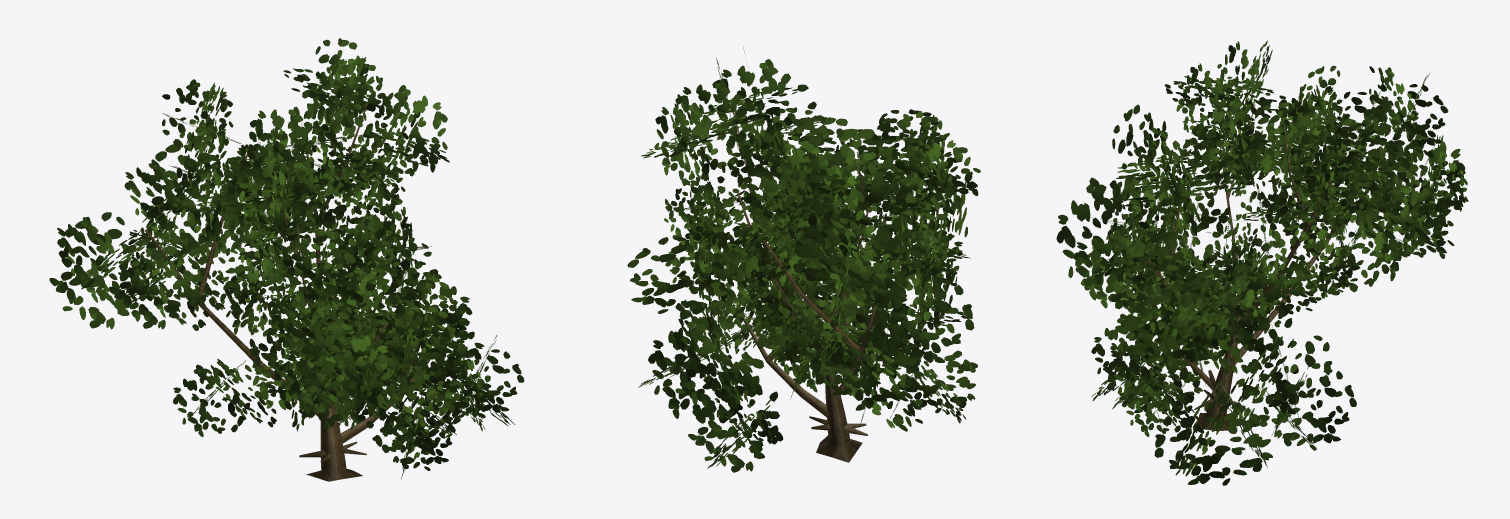
File: env_tree_prairie_old_02.glb
3 renders of one model, left to right at view 1: azimuth 30°, elevation 25°; view 2: azimuth 150°, elevation 25°; view 3: azimuth 270°, elevation 25°, orthographic. The views are drawn at different scales.
Visible parts, largest first — view 1: tree_prairie_old_02; view 2: tree_prairie_old_02; view 3: tree_prairie_old_02.
Boxes of the visible parts, left/top/right/bottom form: tree_prairie_old_02: left=49, top=38, right=524, bottom=481; tree_prairie_old_02: left=627, top=47, right=980, bottom=472; tree_prairie_old_02: left=1056, top=40, right=1468, bottom=485.
Size of the model in its own units: 15.06 by 15.08 by 15.2.
Materials: 2 (2 with a texture image).
